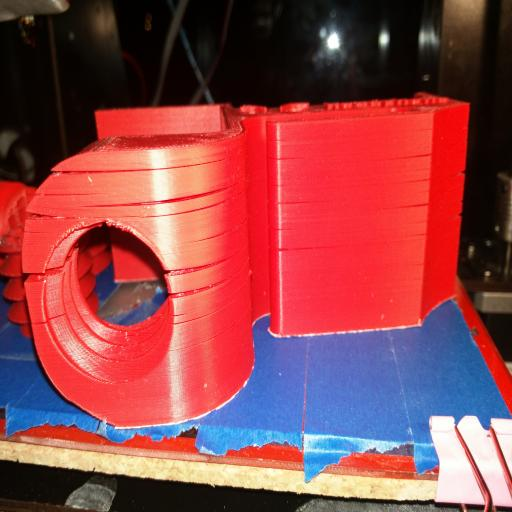cracks: (58, 202, 223, 234), (166, 261, 259, 305), (17, 267, 73, 306), (18, 203, 86, 234), (415, 209, 481, 237), (424, 155, 477, 184)
